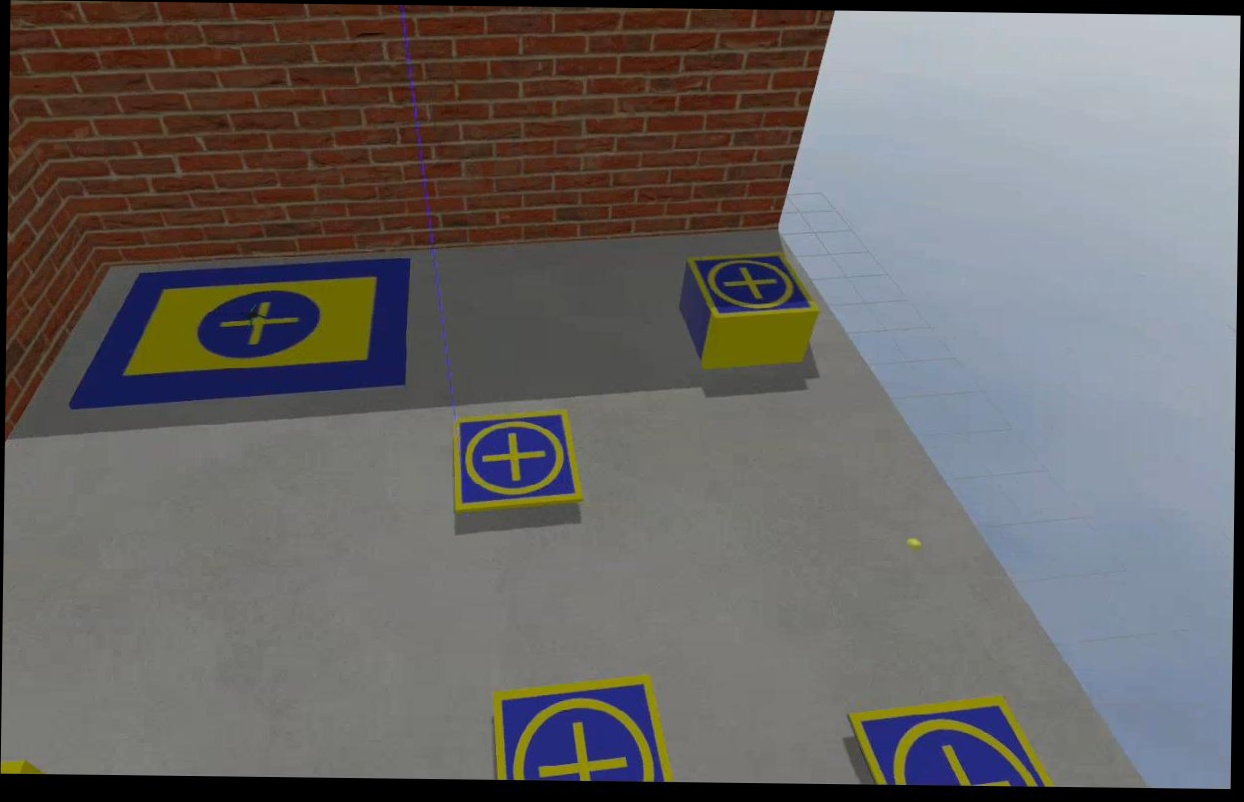large_base: (64, 257, 414, 417)
small_base: (491, 672, 676, 782), (847, 691, 1057, 785), (451, 405, 588, 517), (690, 255, 825, 324)
